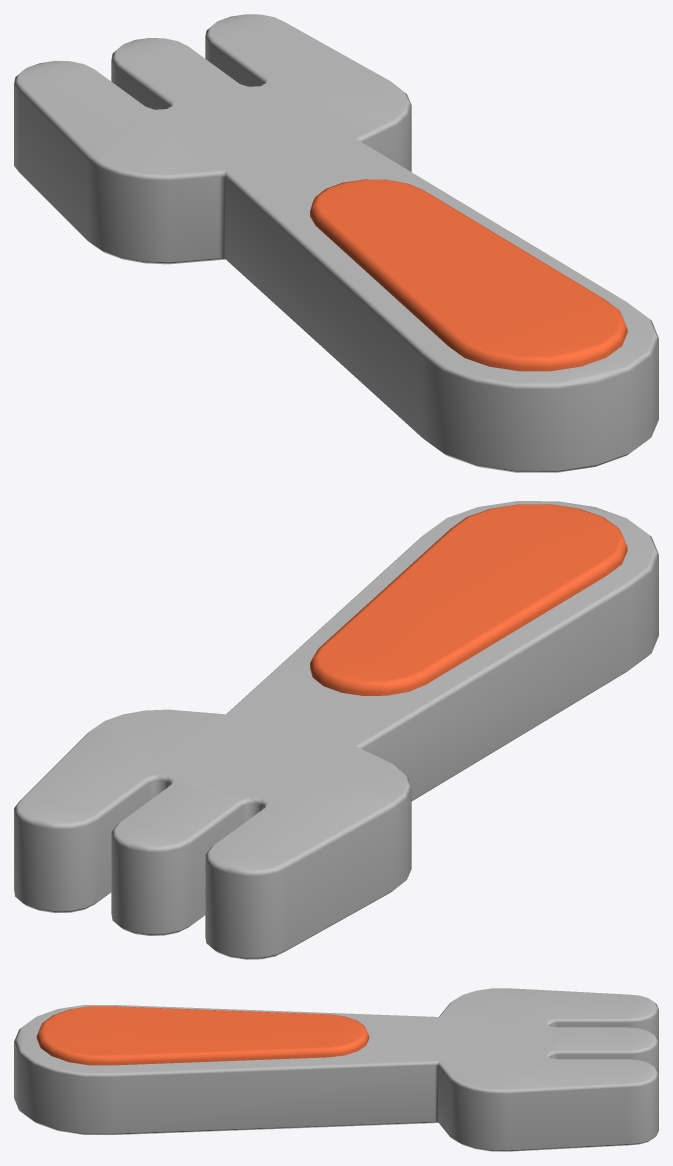
The model's file is Store_18_Fork_1.glb.
3 renders of one model, top to bottom at view 1: azimuth 30°, elevation 25°; view 2: azimuth 150°, elevation 25°; view 3: azimuth 270°, elevation 25°, orthographic. The views are drawn at different scales.
Parts seen in each view (by area): view 1: Store_18_Fork_1; view 2: Store_18_Fork_1; view 3: Store_18_Fork_1.
Part boxes in pixels (x1,y1,x2,y2): Store_18_Fork_1: (14,14,658,472); Store_18_Fork_1: (14,501,658,959); Store_18_Fork_1: (14,988,658,1151).
Bounding box in the file's own units: 0.1252 × 0.0397 × 0.3285.
1 material, 1 textured.
